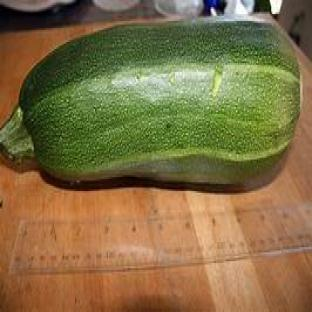Zucchini: (0, 18, 300, 184)
